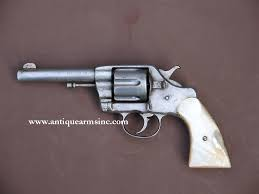gun: (13, 58, 237, 172)
